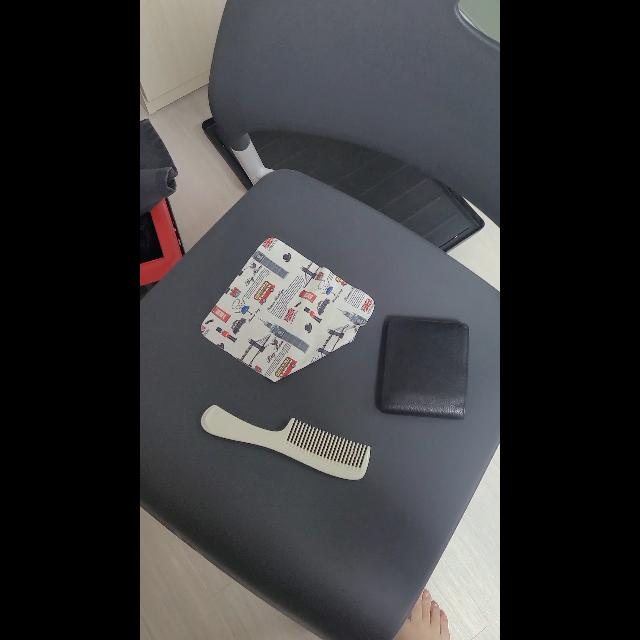COMB: (202, 404, 370, 480)
Glasses cleaning cloth: (202, 236, 374, 382)
WALLET: (380, 316, 470, 419)
